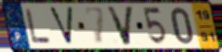0: (170, 6, 195, 46)
5: (142, 6, 168, 47)
7: (83, 6, 107, 46)
L: (24, 8, 53, 45)
V: (105, 5, 136, 47), (47, 6, 76, 47)
